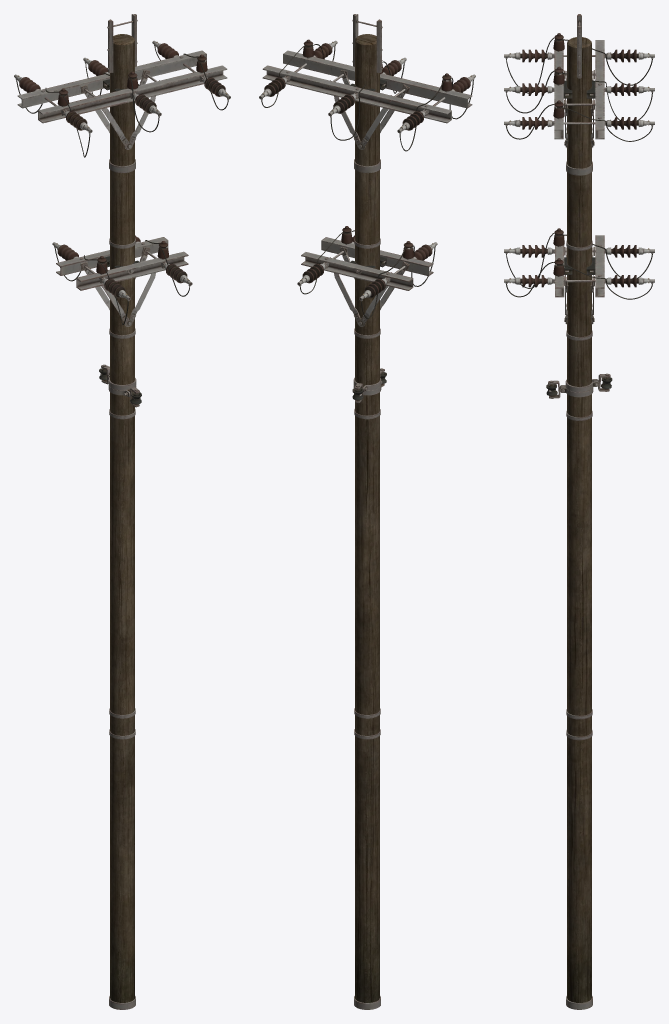
File: pole-plain.glb
The picture shows the model from 3 angles, left to right: view 1: azimuth 30°, elevation 25°; view 2: azimuth 150°, elevation 25°; view 3: azimuth 270°, elevation 25°; orthographic projection.
Parts seen in each view (by area): view 1: preset_02_pole, preset_02_connection_large_01, preset_02_connection_small_01, preset_02_cap; view 2: preset_02_pole, preset_02_connection_large_01, preset_02_connection_small_01, preset_02_cap; view 3: preset_02_pole, preset_02_connection_large_01, preset_02_connection_small_01, preset_02_connection_single_01_02, preset_02_connection_single_01.
Part boxes in pixels (bbox=[...]): preset_02_pole: bbox=[110, 34, 134, 1002]; preset_02_connection_large_01: bbox=[14, 40, 230, 157]; preset_02_connection_small_01: bbox=[52, 235, 192, 326]; preset_02_cap: bbox=[107, 14, 137, 72]; preset_02_pole: bbox=[355, 34, 379, 1002]; preset_02_connection_large_01: bbox=[259, 39, 475, 151]; preset_02_connection_small_01: bbox=[297, 226, 437, 326]; preset_02_cap: bbox=[352, 14, 382, 72]; preset_02_pole: bbox=[567, 37, 591, 1002]; preset_02_connection_large_01: bbox=[504, 33, 654, 147]; preset_02_connection_small_01: bbox=[504, 228, 654, 324]; preset_02_connection_single_01_02: bbox=[565, 373, 612, 392]; preset_02_connection_single_01: bbox=[546, 380, 593, 398].
Bounding box in the file's own units: 1.2 × 6.13 × 0.8522.
2 materials, 2 textured.
